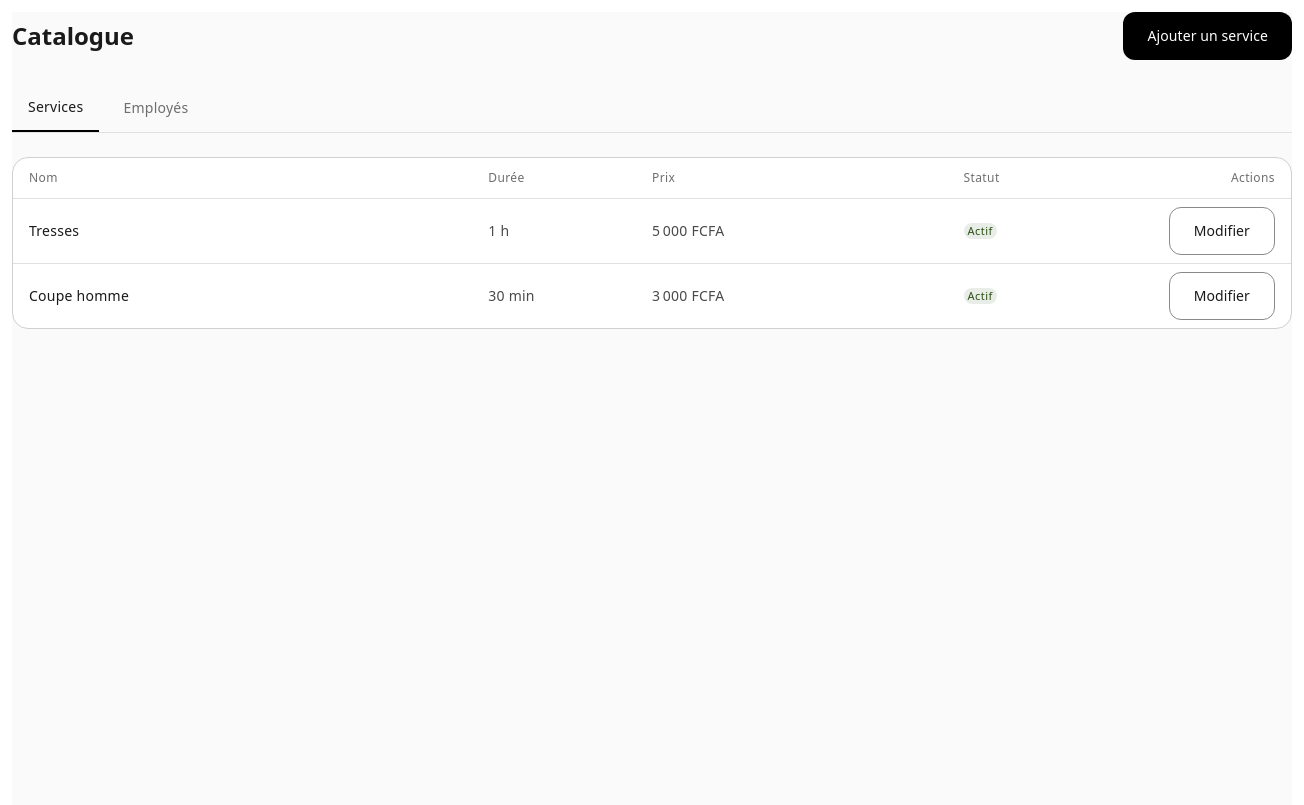
it: CatalogueClient — the below-table editor › switching Modifier A → B shows B (the keyed editor; unkeyed kept A)
Click the button "Modifier" in the row of "Tresses" at (1222, 231), box top-left (1169, 207), bottom-right (1275, 255)
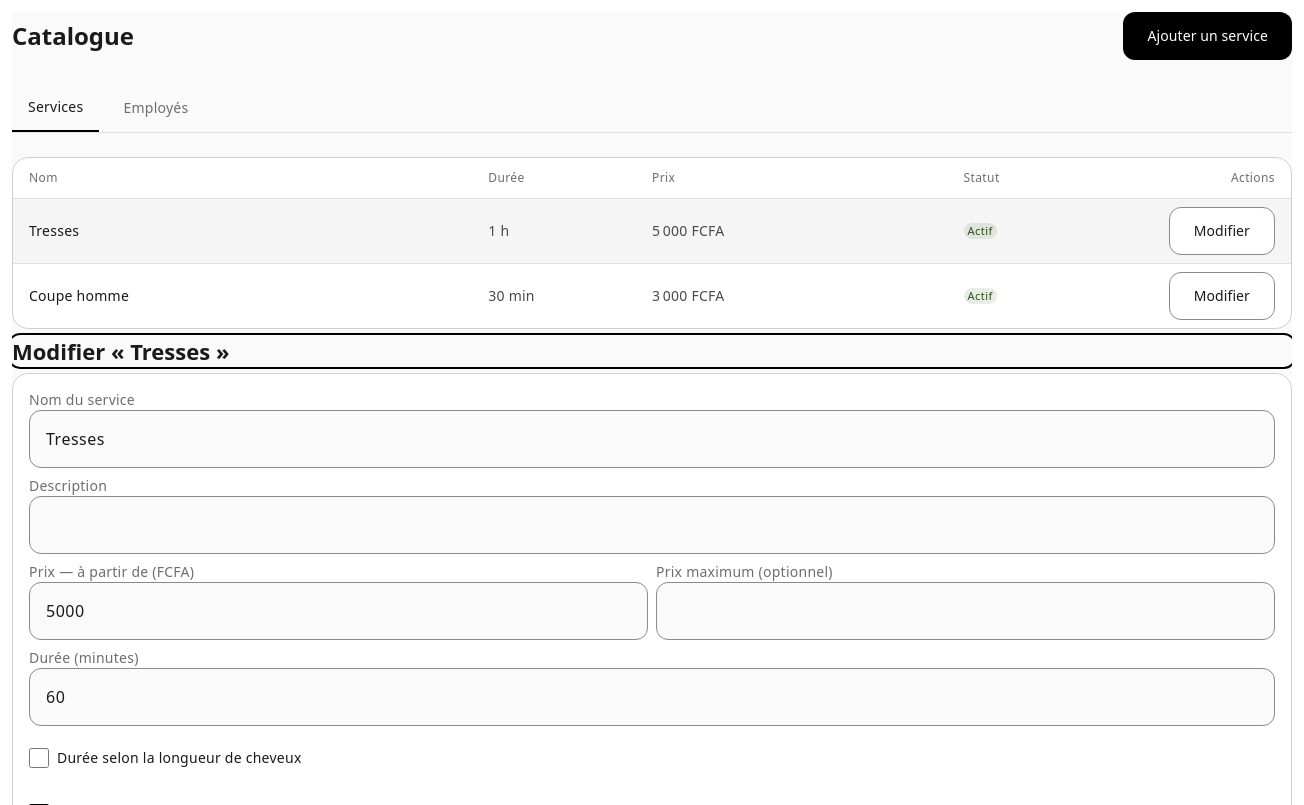
Check: the field labelled "Nom du service" holds "Tresses", box top-left (29, 410), bottom-right (1275, 468)
Click the button "Modifier" in the row of "Coupe homme" at (1222, 296), box top-left (1169, 272), bottom-right (1275, 320)
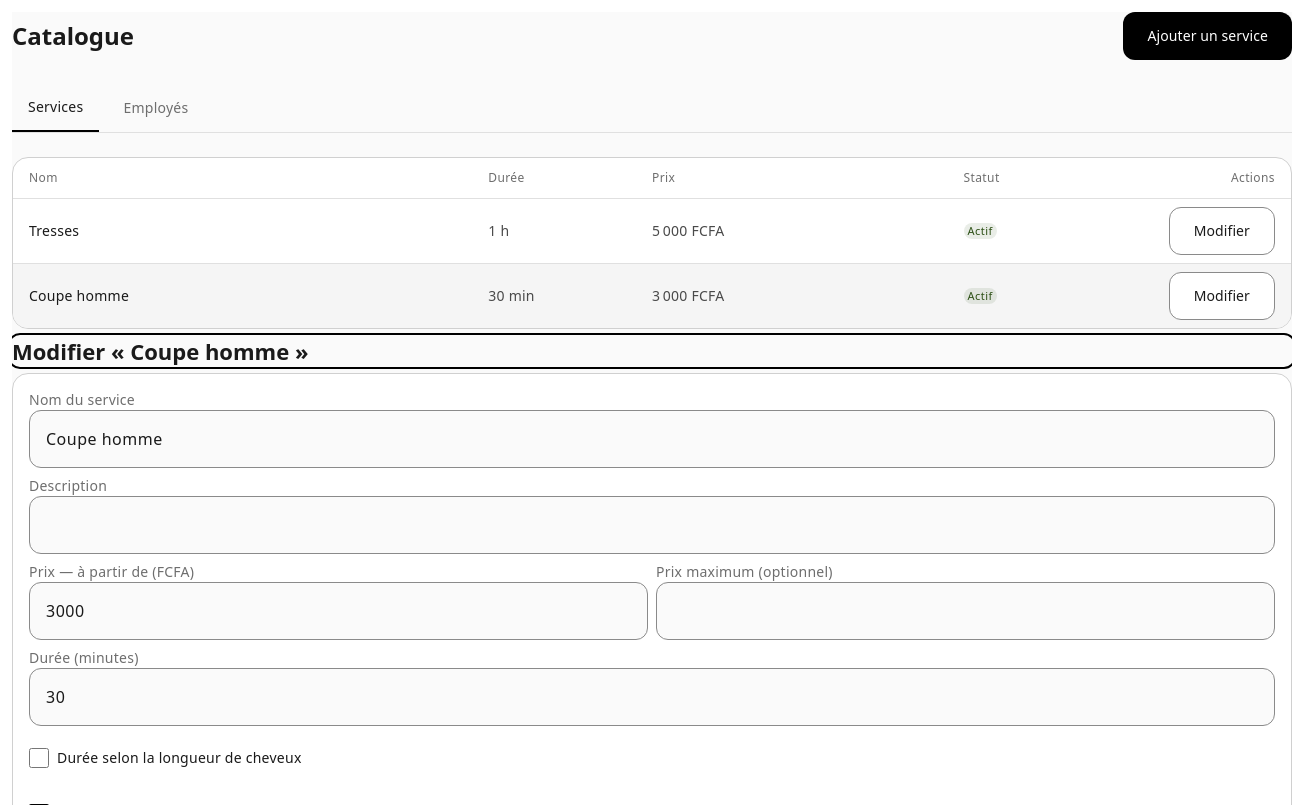
Check: the field labelled "Nom du service" holds "Coupe homme", box top-left (29, 410), bottom-right (1275, 468)
